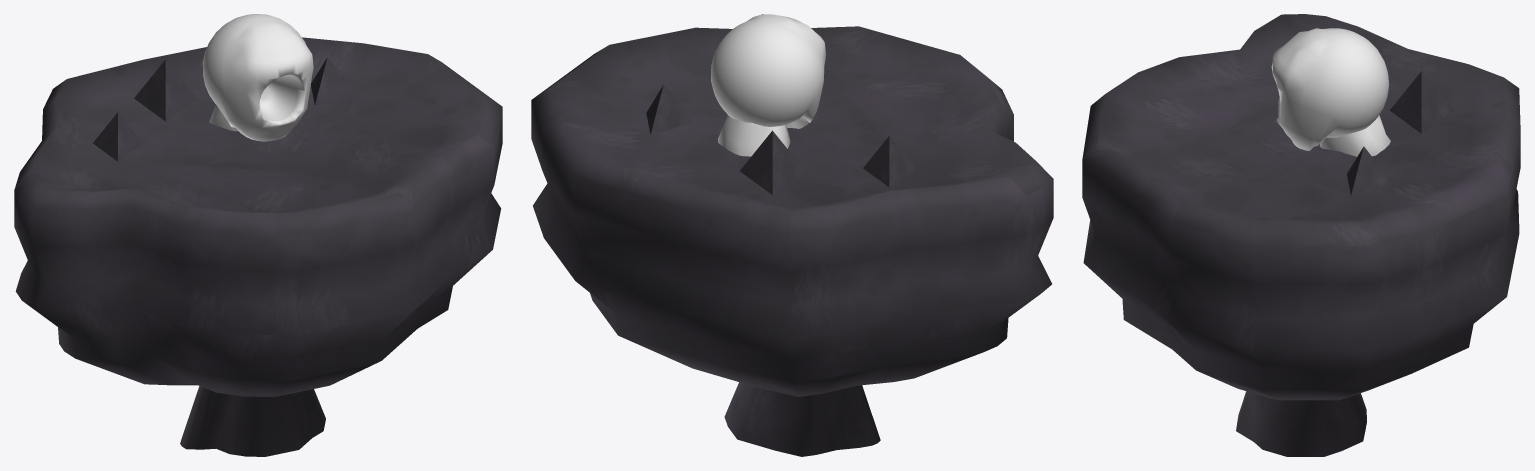
File: blackboardIsland.gltf
3 views of the same model, side by side, from view 1: azimuth 30°, elevation 25°; view 2: azimuth 150°, elevation 25°; view 3: azimuth 270°, elevation 25° (orthographic). The views are drawn at different scales.
Parts seen in each view (by area): view 1: Vert.003, 球, Solid.002, Solid, Solid.001; view 2: Vert.003, 球, Solid.002, ICO球.020, Solid, Solid.001; view 3: Vert.003, 球, Solid.002, ICO球.020, Solid.001.
Boxes of the visible parts, left/top/right/bottom form: Vert.003: left=14, top=37, right=502, bottom=456; 球: left=202, top=14, right=313, bottom=141; Solid.002: left=134, top=59, right=196, bottom=121; Solid: left=93, top=112, right=143, bottom=161; Solid.001: left=311, top=57, right=356, bottom=105; Vert.003: left=531, top=26, right=1053, bottom=456; 球: left=711, top=14, right=826, bottom=128; Solid.002: left=740, top=130, right=804, bottom=194; ICO球.020: left=718, top=115, right=790, bottom=156; Solid: left=863, top=136, right=915, bottom=187; Solid.001: left=646, top=84, right=693, bottom=134; Vert.003: left=1082, top=14, right=1520, bottom=456; 球: left=1271, top=28, right=1389, bottom=150; Solid.002: left=1390, top=71, right=1453, bottom=133; ICO球.020: left=1320, top=115, right=1390, bottom=156; Solid.001: left=1347, top=146, right=1393, bottom=195.
Size of the model in its own units: 36.14 by 31.05 by 29.56.
Materials: 1 (1 with a texture image).
